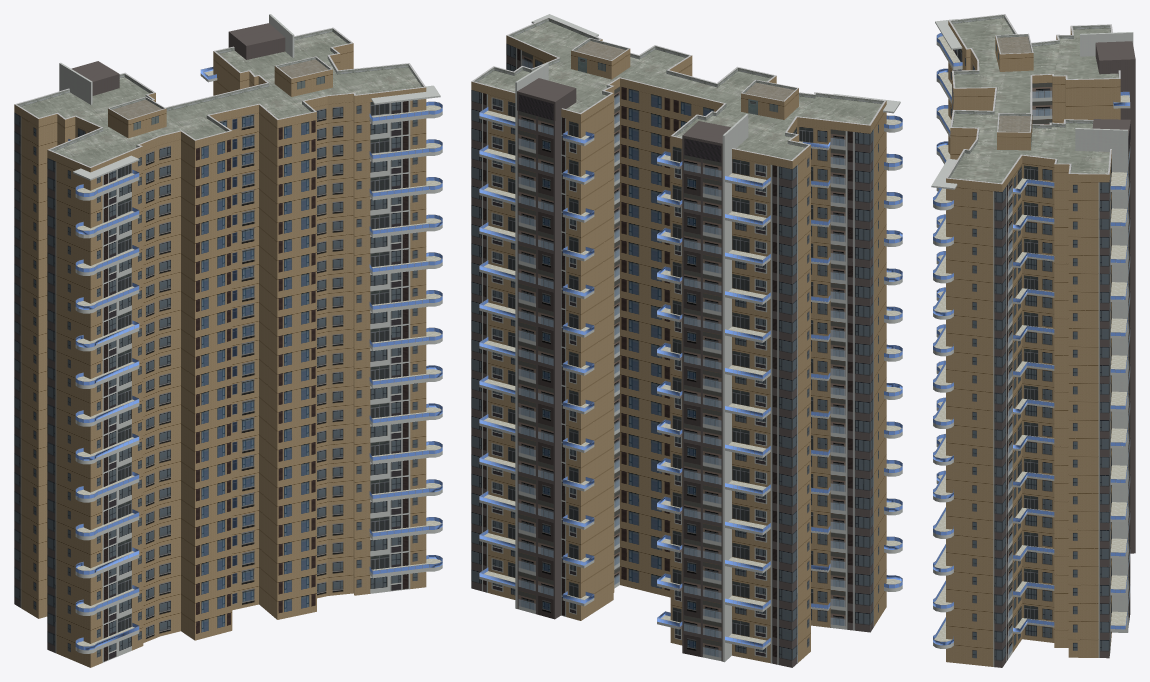
3 views of the same model, side by side, from view 1: azimuth 30°, elevation 25°; view 2: azimuth 150°, elevation 25°; view 3: azimuth 270°, elevation 25° (orthographic). The views are drawn at different scales.
Visible parts, largest first — view 1: jz2; view 2: jz2; view 3: jz2.
Part boxes in pixels (bbox=[...]): jz2: bbox=[14, 14, 442, 667]; jz2: bbox=[471, 14, 902, 667]; jz2: bbox=[931, 14, 1135, 667].
Size of the model in its own units: 6628 by 9081 by 3346.
25 materials, 25 textured.
